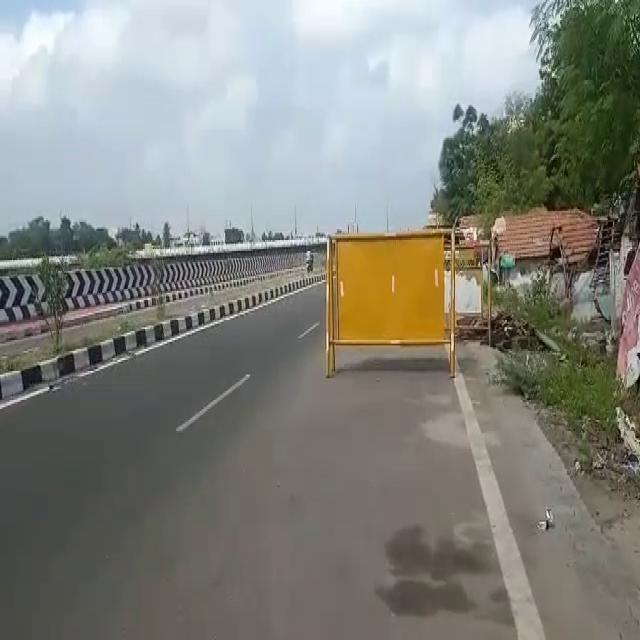fallen_object: (299, 209, 477, 401)
